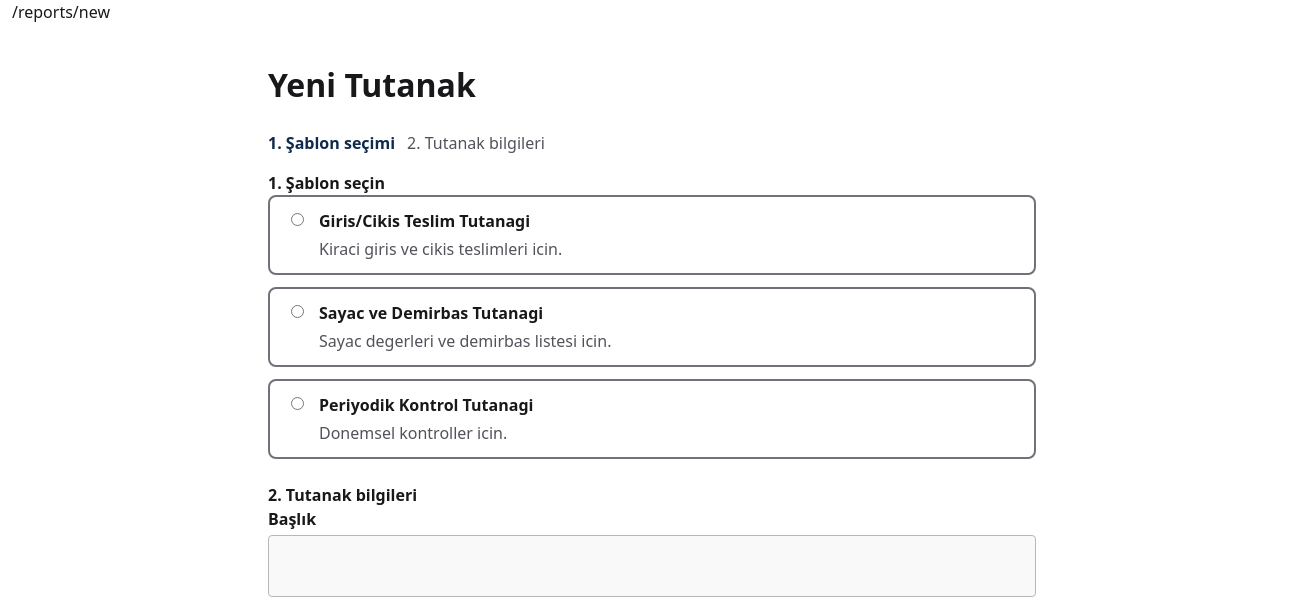
Test: ReportCreatePage › form alanlari (kriter 4) › not alani icin karakter sayaci gosterir ve yazdikca gunceller
The width and height of the screenshot is (1292, 614).
Step 1. Click the radio button labelled "Giris/Cikis Teslim Tutanagi" → (298,219), box [291,213,304,226]
(page scrolled)
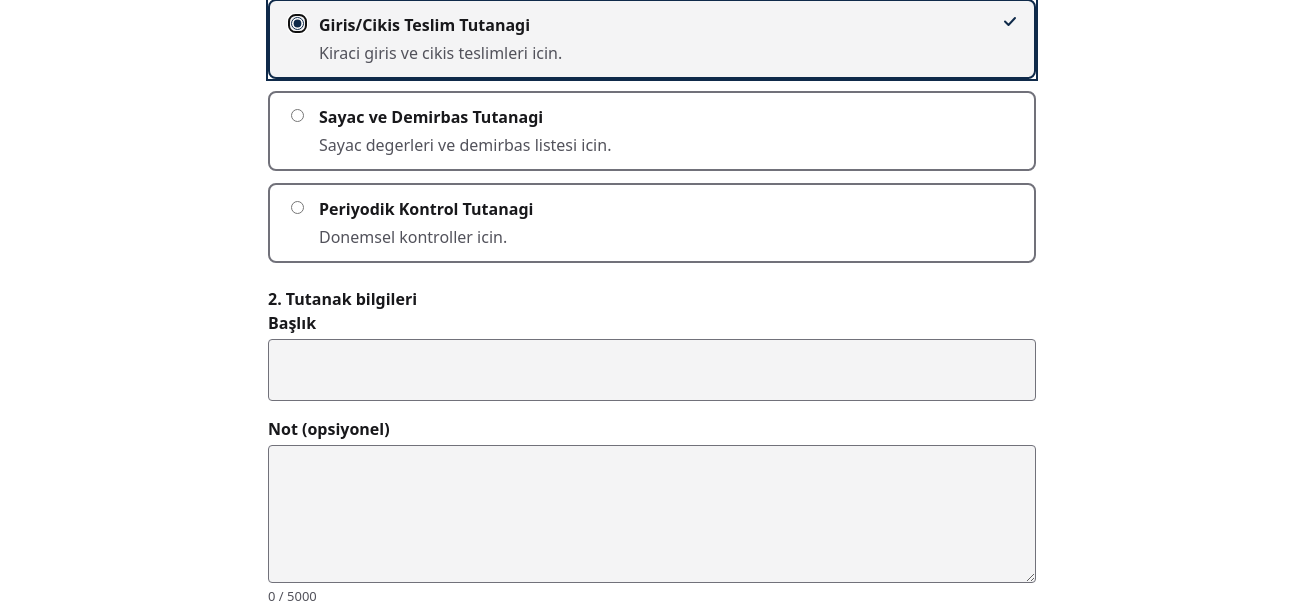
Expected: the text "0 / 5000" is shown, [268,587,317,605]
Step 2. Type "kapi" into the text box labelled "Not (opsiyonel)" → (652,514), box [268,445,1036,583]
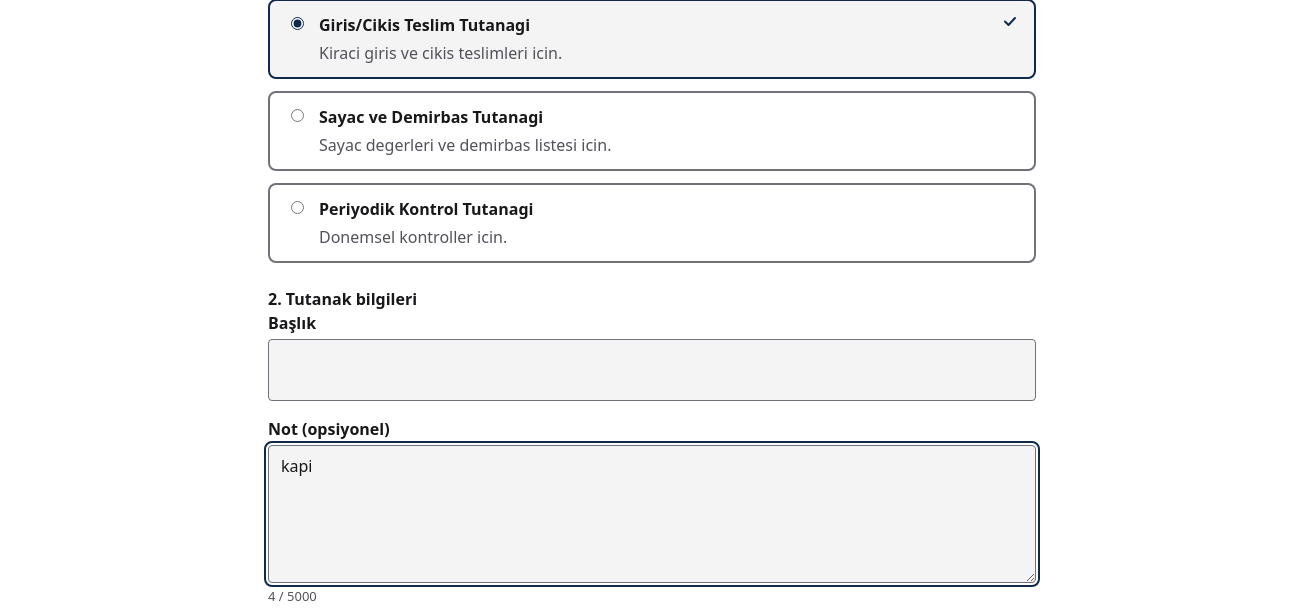
Result: the text "4 / 5000" is shown at [268,587,317,605]
